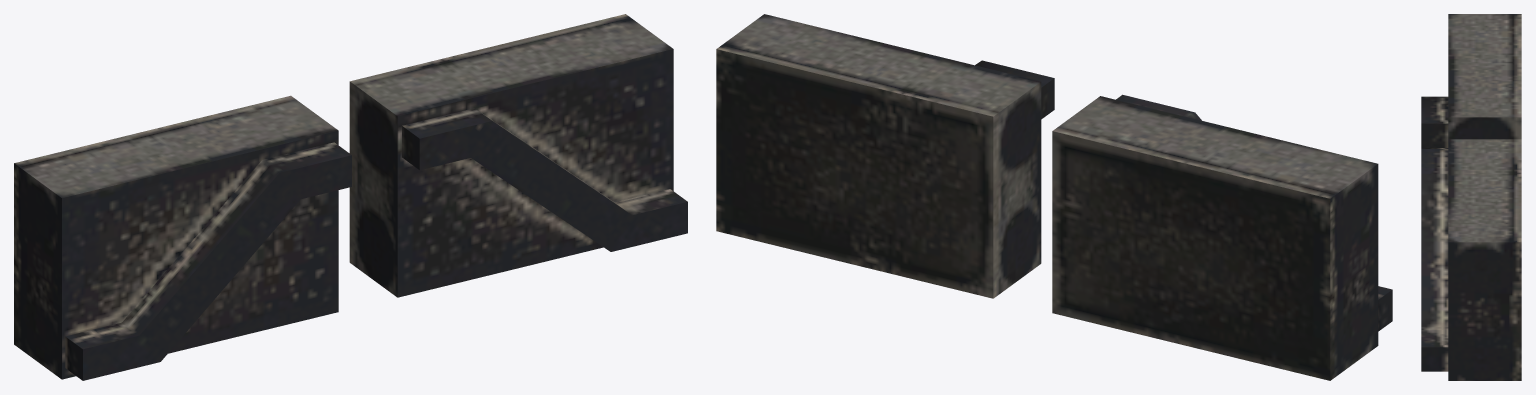
The picture shows the model from 3 angles, left to right: view 1: azimuth 30°, elevation 25°; view 2: azimuth 150°, elevation 25°; view 3: azimuth 270°, elevation 25°; orthographic projection. The views are drawn at different scales.
Visible parts, largest first — view 1: set_0_group_0; view 2: set_0_group_0; view 3: set_0_group_0.
Boxes of the visible parts, bbox=[...] form: set_0_group_0: bbox=[14, 14, 687, 380]; set_0_group_0: bbox=[716, 14, 1392, 380]; set_0_group_0: bbox=[1421, 14, 1521, 380].
Bounding box in the file's own units: 0.4784 × 0.1356 × 0.0887.
Materials: 1 (1 with a texture image).
